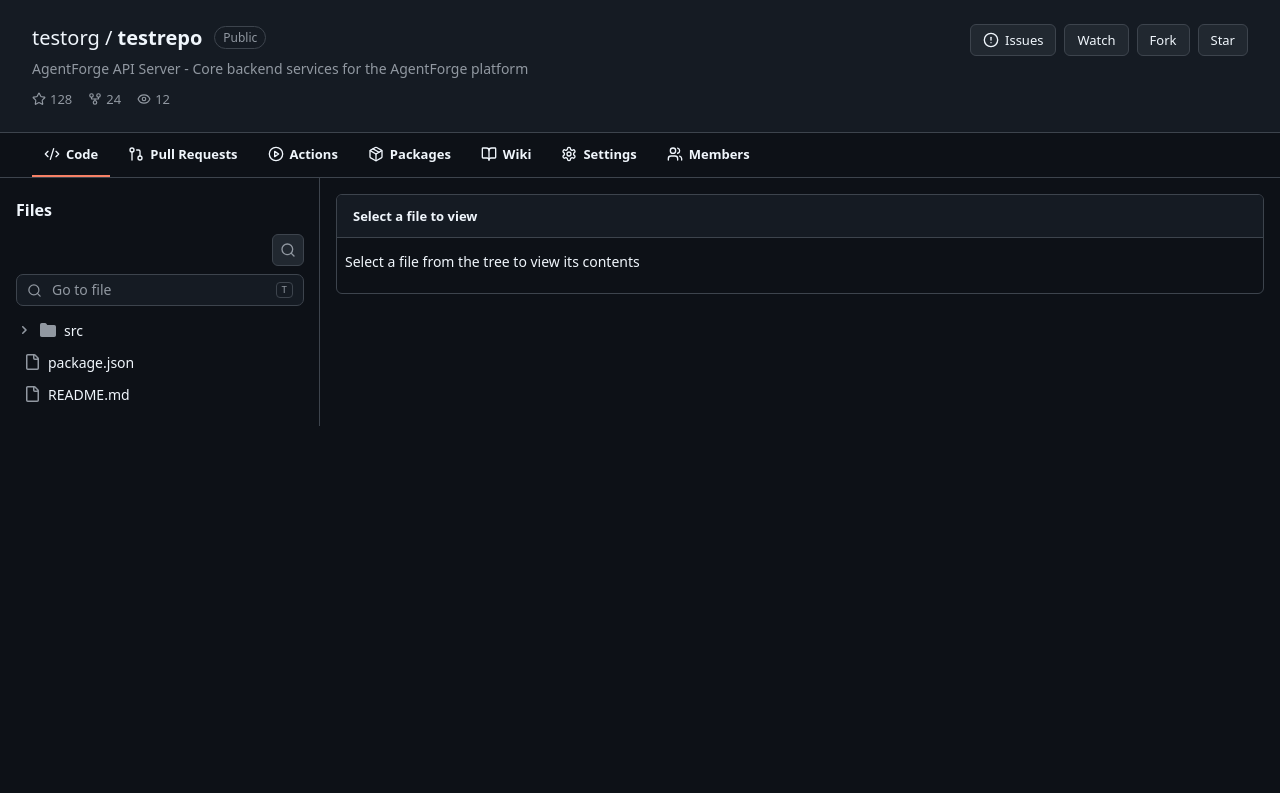
RepositoryDetailPage - Pull Requests Tab › filters PRs by author using dropdown
Step 1. Click the tab "Pull Requests" → (183, 155), box x1=116 y1=133 x2=250 y2=177
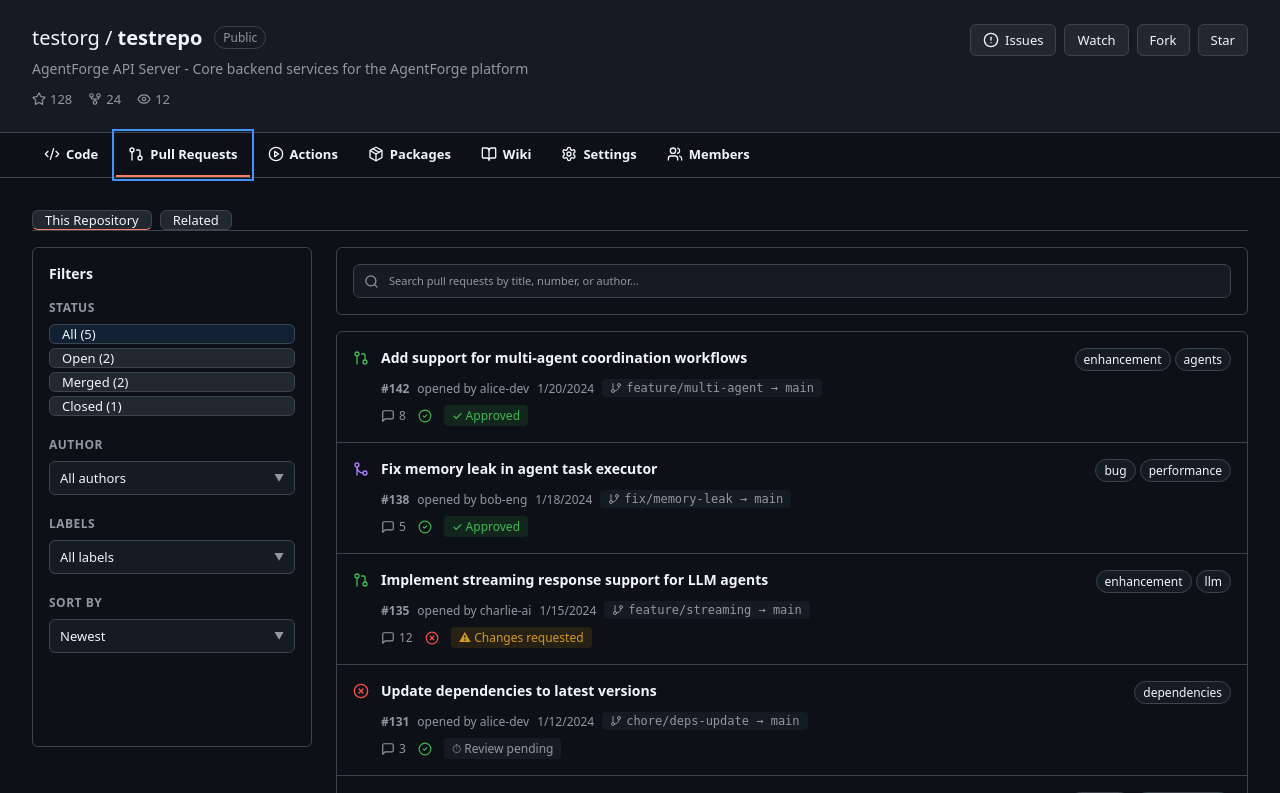
Step 2. Click the dropdown named "Filter pull requests by author" → (172, 478), box x1=49 y1=461 x2=295 y2=495
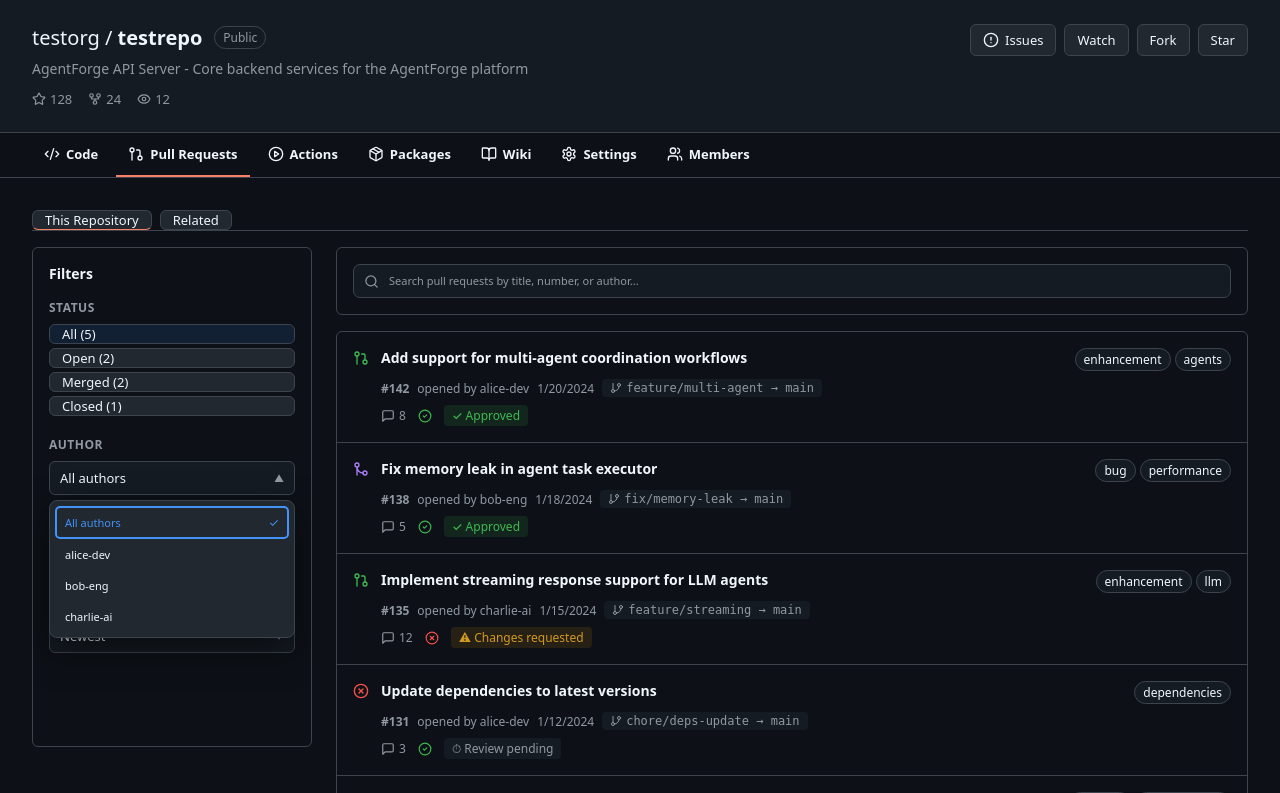
Step 3. Click the option "alice-dev" → (172, 554), box x1=55 y1=539 x2=289 y2=570
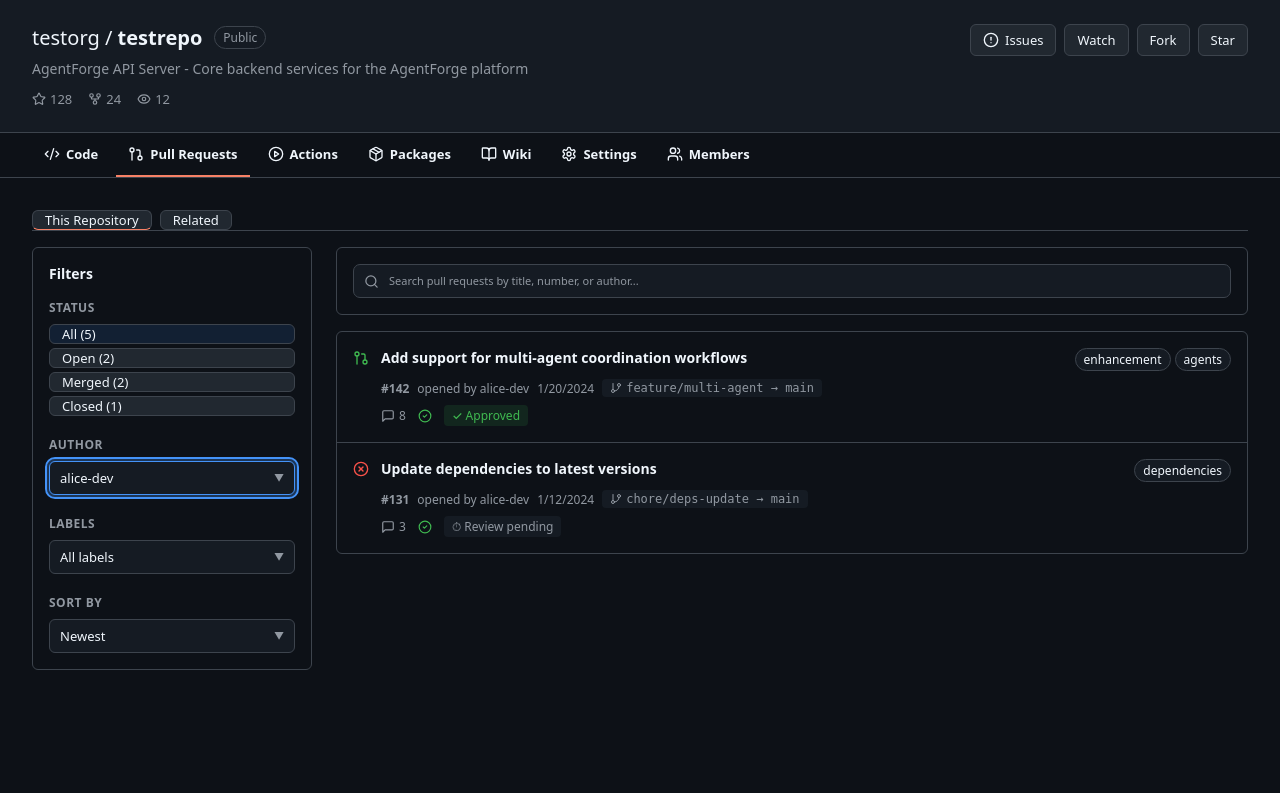
Now the heading "Add support for multi-agent coordination workflows" is shown, box x1=381 y1=348 x2=747 y2=367
Now the heading "Fix memory leak in agent task executor" is gone
